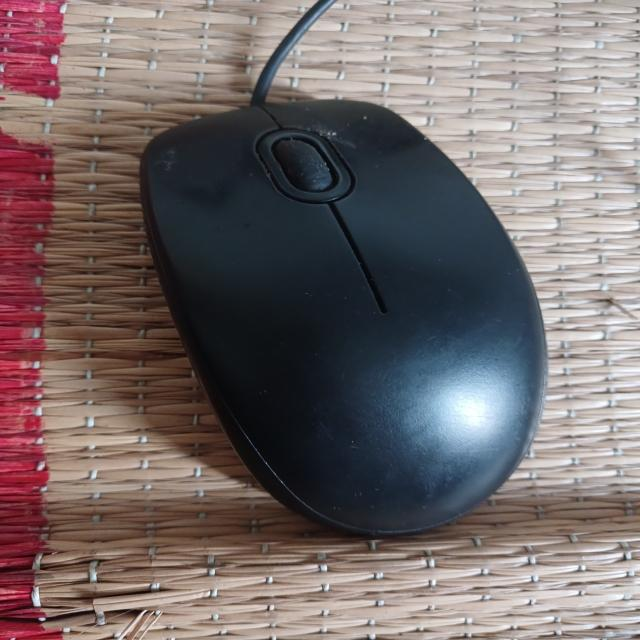mouse: (125, 97, 560, 549)
